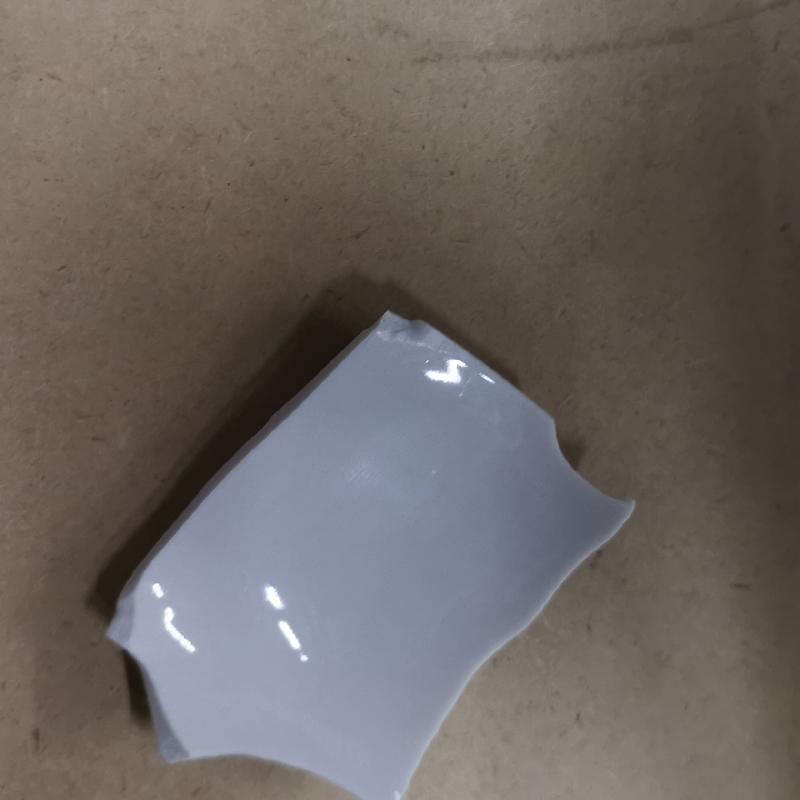ceram: (95, 301, 640, 800)
